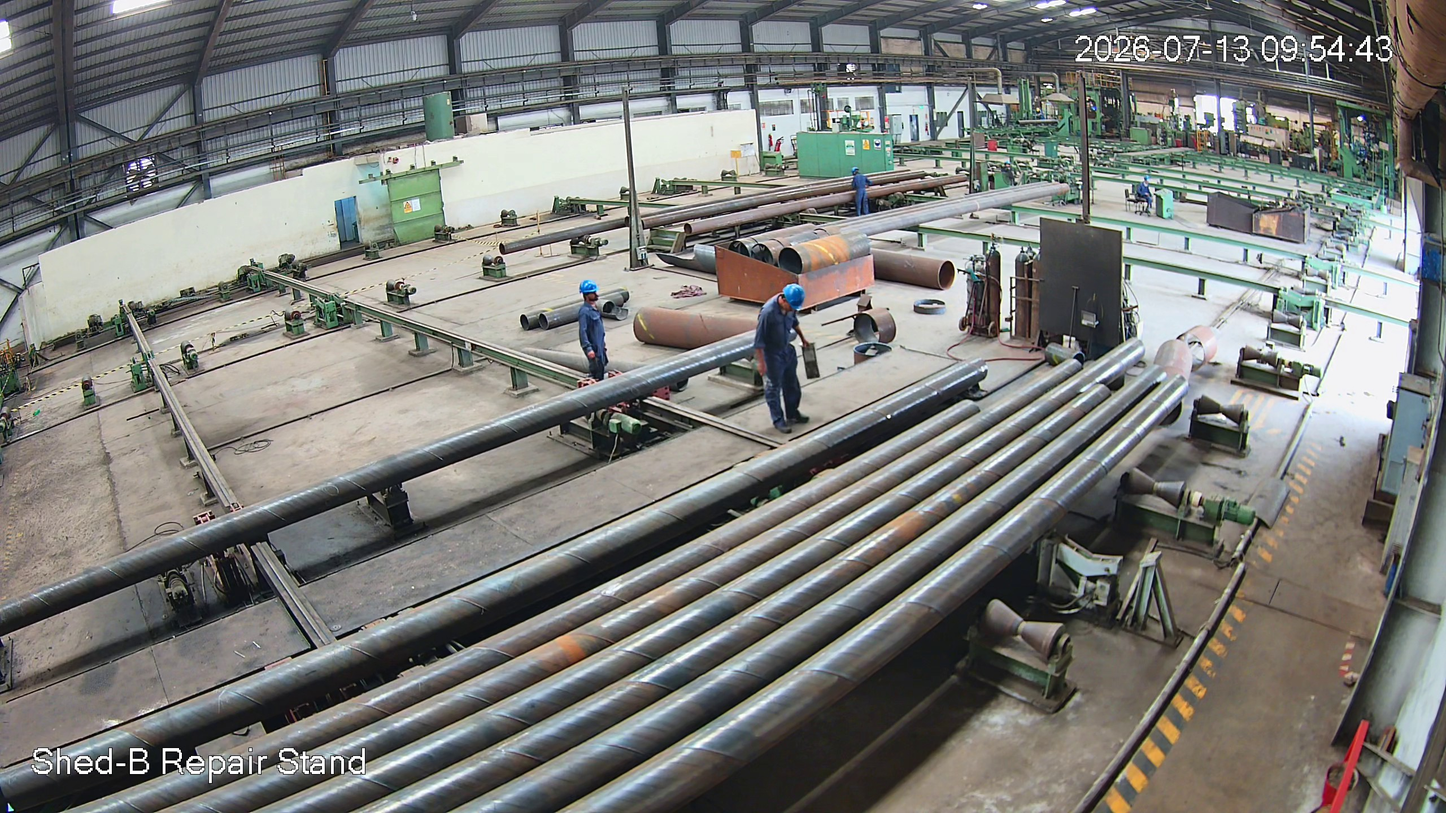Helmet: (778, 277, 806, 320), (577, 276, 604, 307)
Person: (754, 281, 815, 438), (572, 279, 613, 385)
